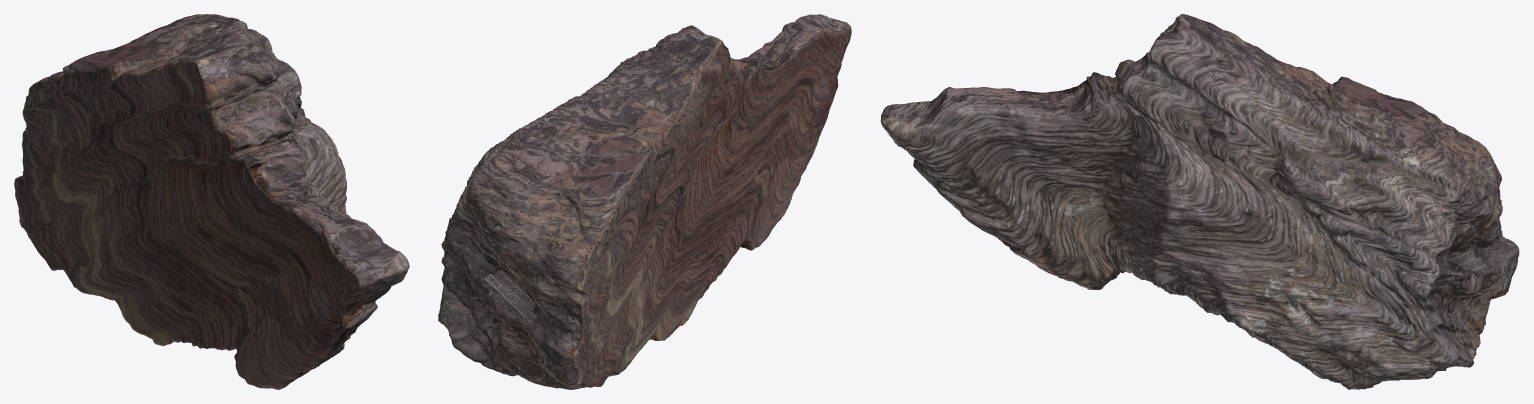
The picture shows the model from 3 angles, left to right: view 1: azimuth 30°, elevation 25°; view 2: azimuth 150°, elevation 25°; view 3: azimuth 270°, elevation 25°; orthographic projection. The views are drawn at different scales.
Visible parts, largest first — view 1: Metashape to blender; view 2: Metashape to blender; view 3: Metashape to blender.
Part boxes in pixels (box(x1,y1,x2,y2)): Metashape to blender: box(14, 14, 409, 389); Metashape to blender: box(438, 14, 851, 389); Metashape to blender: box(880, 14, 1519, 389).
Bounding box in the file's own units: 0.0759 × 0.1146 × 0.2097.
Materials: 1 (1 with a texture image).
